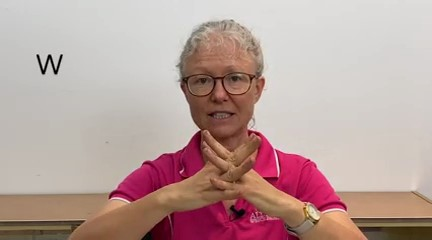W: (174, 124, 309, 216)
